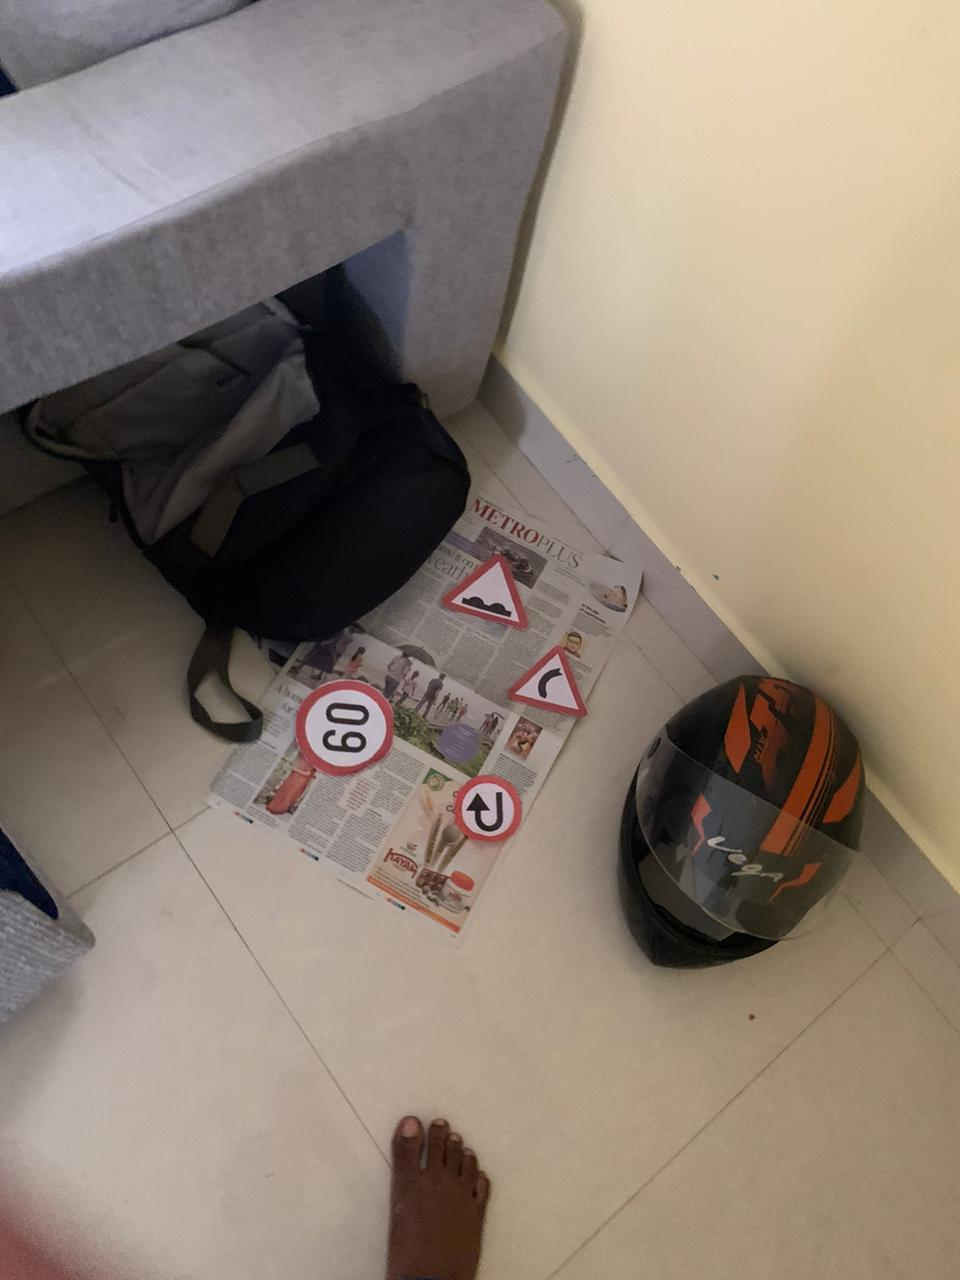LEFT CURVE: (491, 638, 595, 723)
SPEED LIMIT (60 KM/H): (264, 644, 419, 779)
U-TURN: (453, 757, 526, 853)
UNEVEN ROAD: (425, 550, 541, 637)
